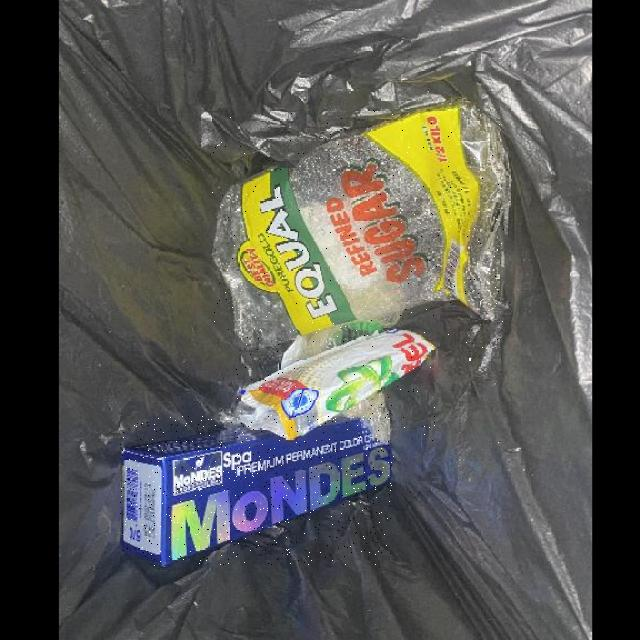paper: (121, 417, 394, 566)
wrapper: (212, 106, 507, 349), (236, 330, 436, 441)
